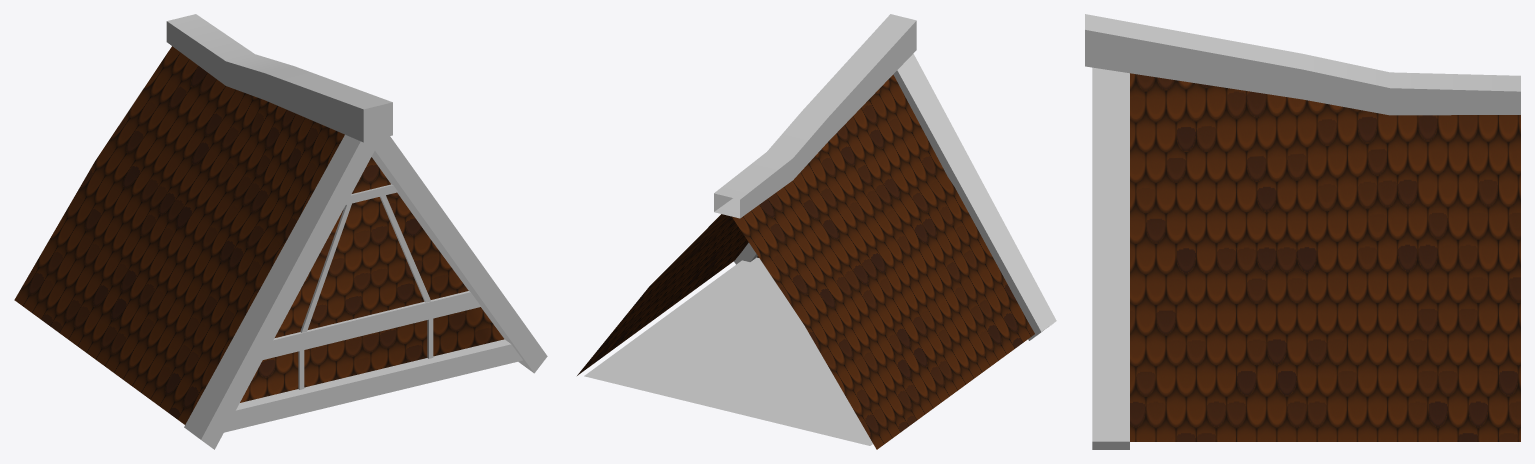
The model's file is Roof_Hutch.fbx.
3 renders of one model, left to right at view 1: azimuth 30°, elevation 25°; view 2: azimuth 150°, elevation 25°; view 3: azimuth 270°, elevation 25°, orthographic. The views are drawn at different scales.
Parts seen in each view (by area): view 1: Roof_Hutch; view 2: Roof_Hutch; view 3: Roof_Hutch.
Part boxes in pixels (<box>): Roof_Hutch: <box>14,14,547,449</box>; Roof_Hutch: <box>577,14,1056,449</box>; Roof_Hutch: <box>1085,14,1520,449</box>.
Bounding box in the file's own units: 234 × 200 × 230.
